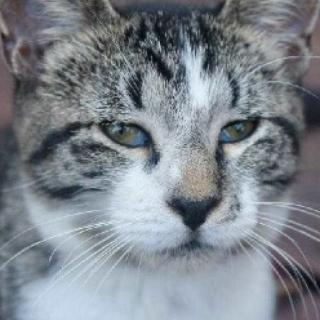cat: (10, 0, 311, 281)
nose: (154, 158, 226, 236)
